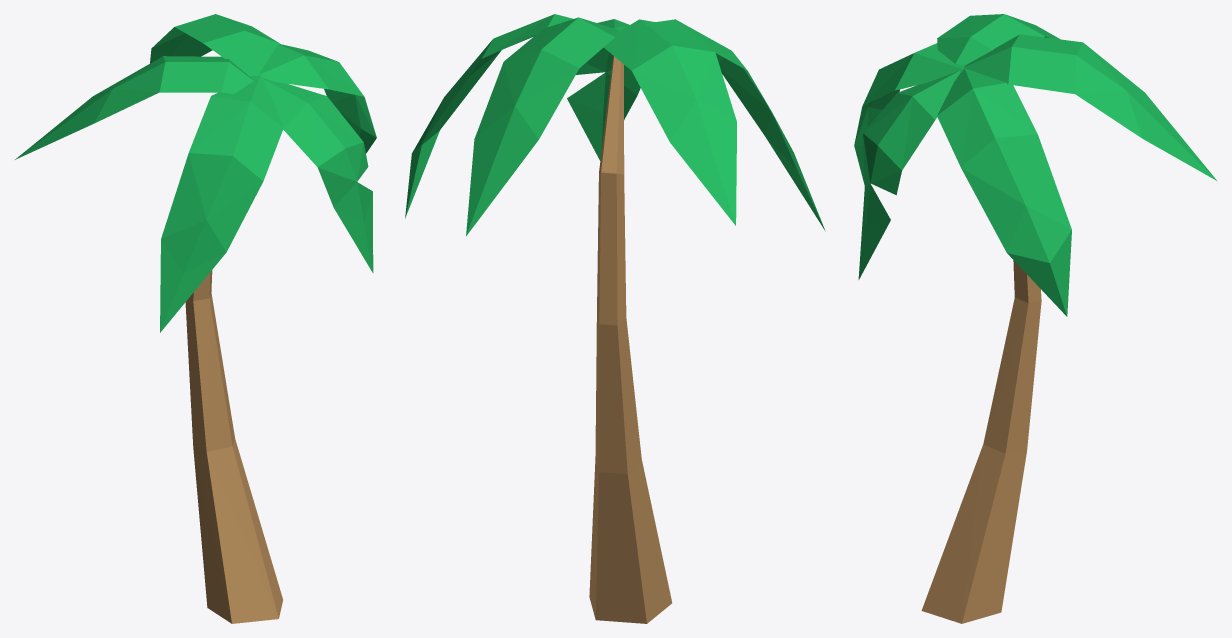
Rendered from tree_07.FBX.
The picture shows the model from 3 angles, left to right: view 1: azimuth 30°, elevation 25°; view 2: azimuth 150°, elevation 25°; view 3: azimuth 270°, elevation 25°; orthographic projection. The views are drawn at different scales.
Parts seen in each view (by area): view 1: tree_07; view 2: tree_07; view 3: tree_07.
Part boxes in pixels (<box>): tree_07: <box>15,14,376,623</box>; tree_07: <box>405,14,825,623</box>; tree_07: <box>854,14,1216,623</box>.
Size of the model in its own units: 922 by 1517 by 876.
